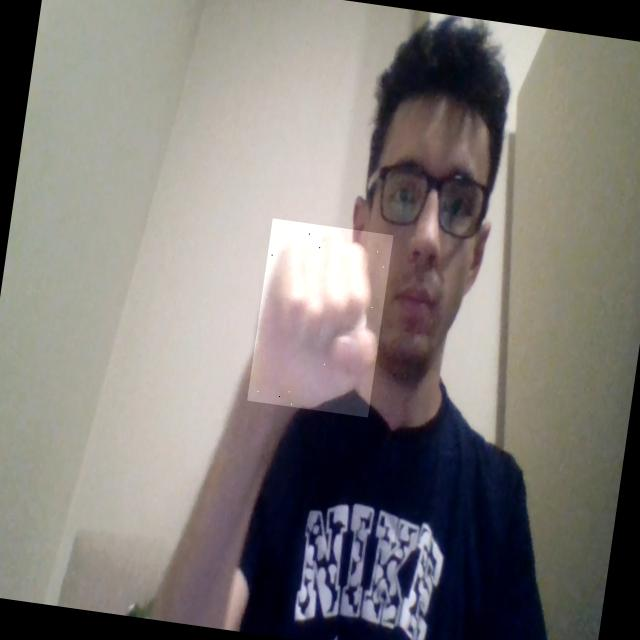yes: (246, 219, 394, 418)
